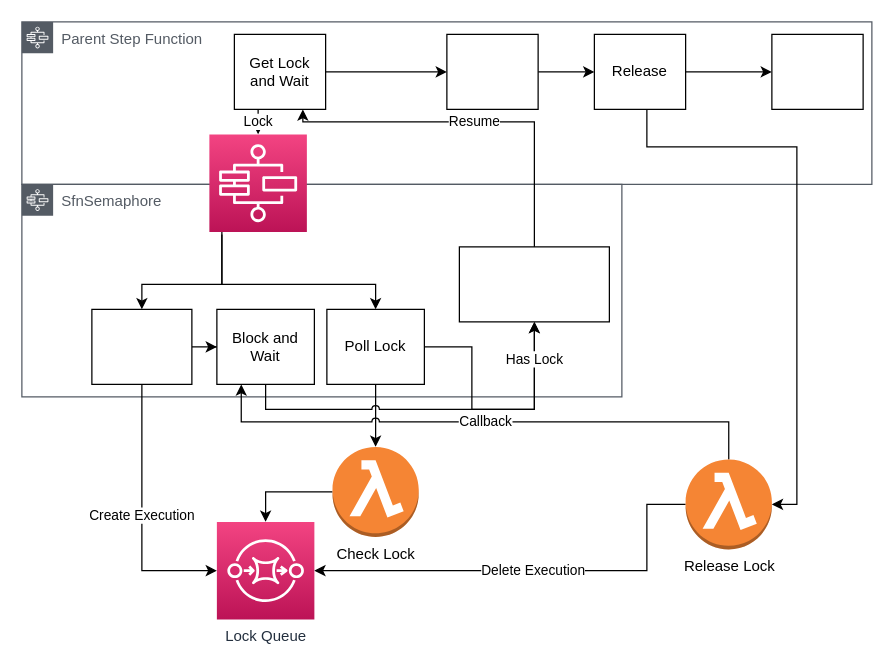
Image size: 894x668. Some labels were removed from this diagram. The centre of each missing label's shape, as x and y in pixels:
COMPLETE: the point at 533,284
Do More Work: the point at 817,71
Do Work: the point at 492,71
Get Lock: the point at 257,182
Submit Execution: the point at 141,346
